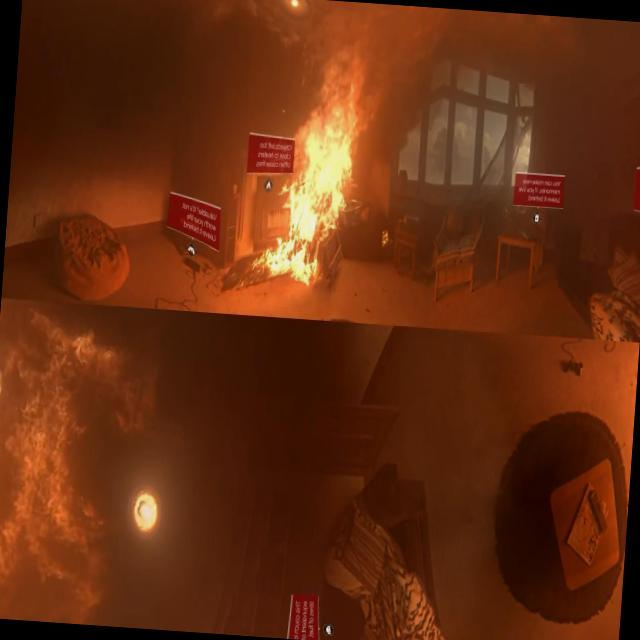fire: (264, 1, 385, 282)
